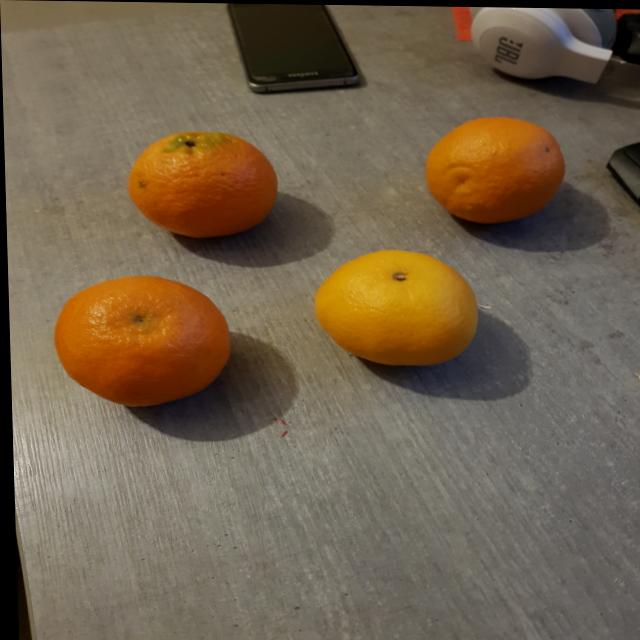Orange: (52, 276, 230, 407), (312, 249, 476, 366), (127, 131, 277, 238), (424, 115, 564, 223)
